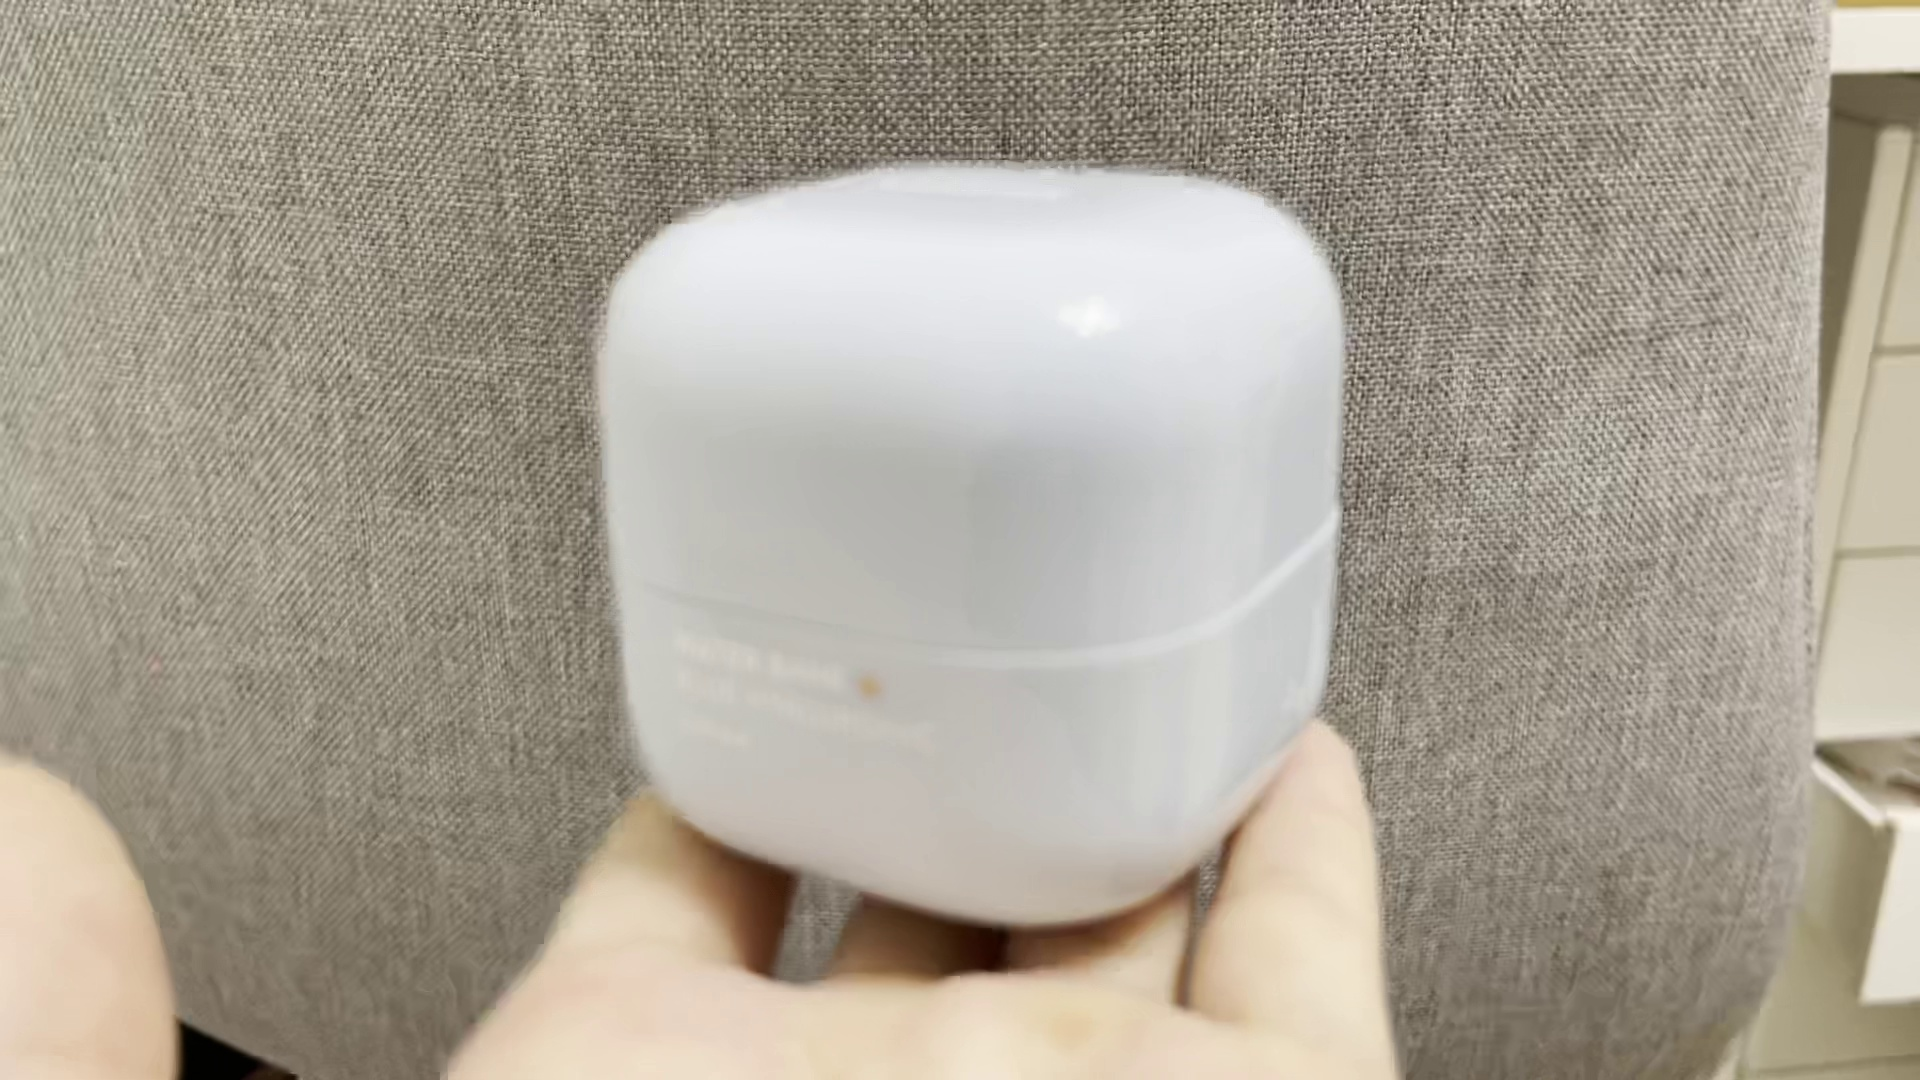cream: (608, 166, 1332, 918)
